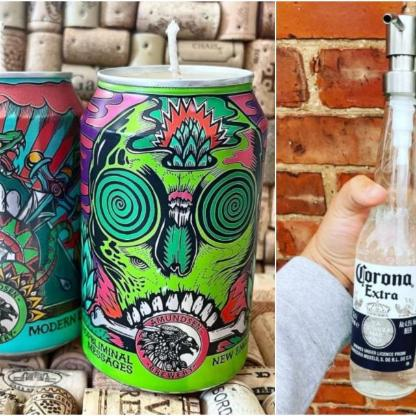Can: (79, 45, 268, 395), (0, 48, 94, 366)
